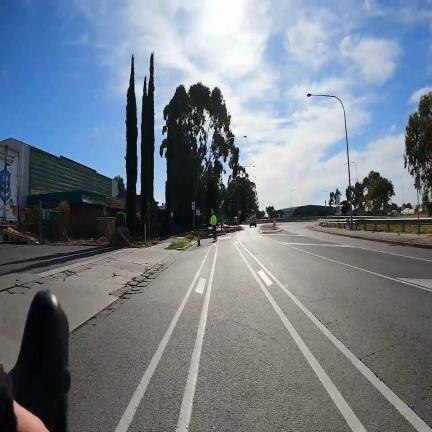Bike_Lane: (189, 240, 349, 432)
